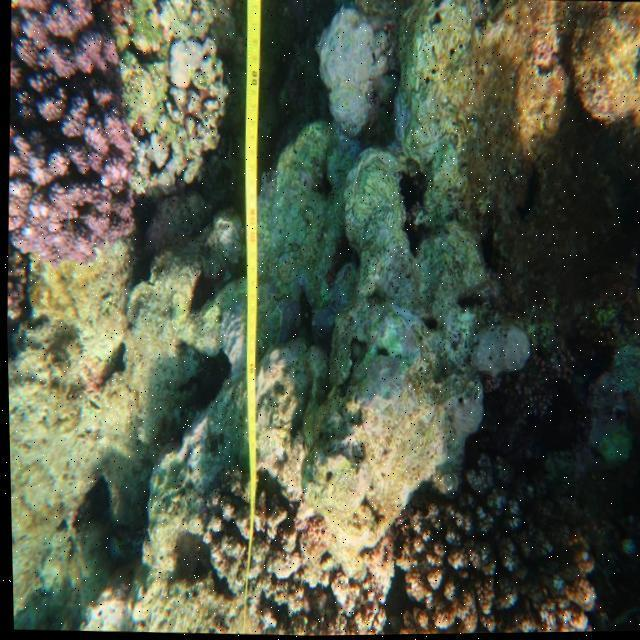Healthy Coral: (0, 0, 144, 322), (392, 466, 606, 638)
